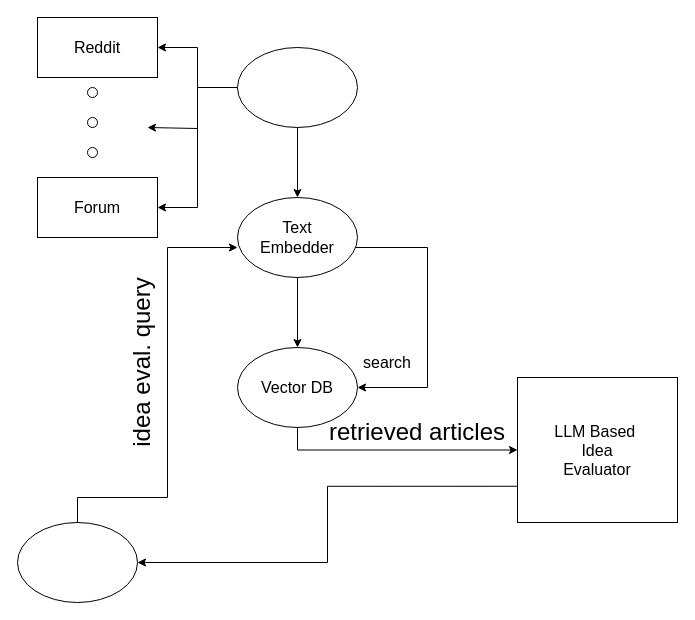
This 695x620 diagram has some shape labels left out. Here are the shapes that lost their labels. From the top down, the centre of each, then its label:
(297,87): Forums Crawler
(77,562): GUI
